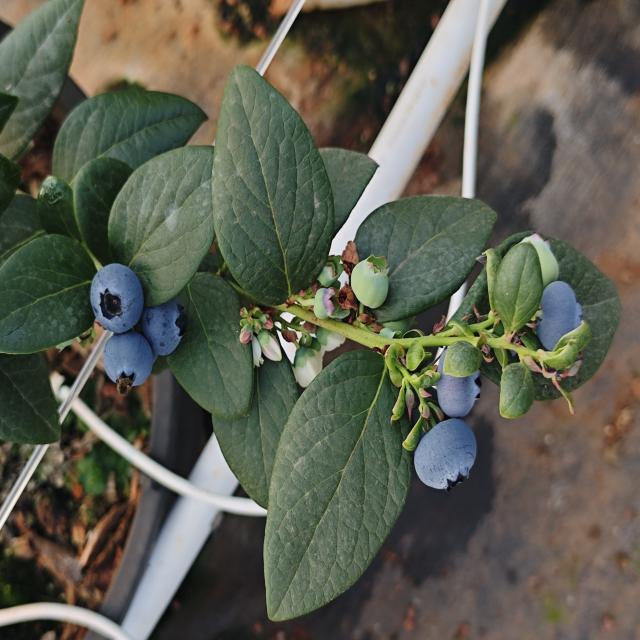ripe: (412, 416, 478, 495), (88, 261, 145, 337), (98, 327, 162, 392), (534, 278, 584, 356), (138, 292, 190, 363), (436, 370, 482, 416)
